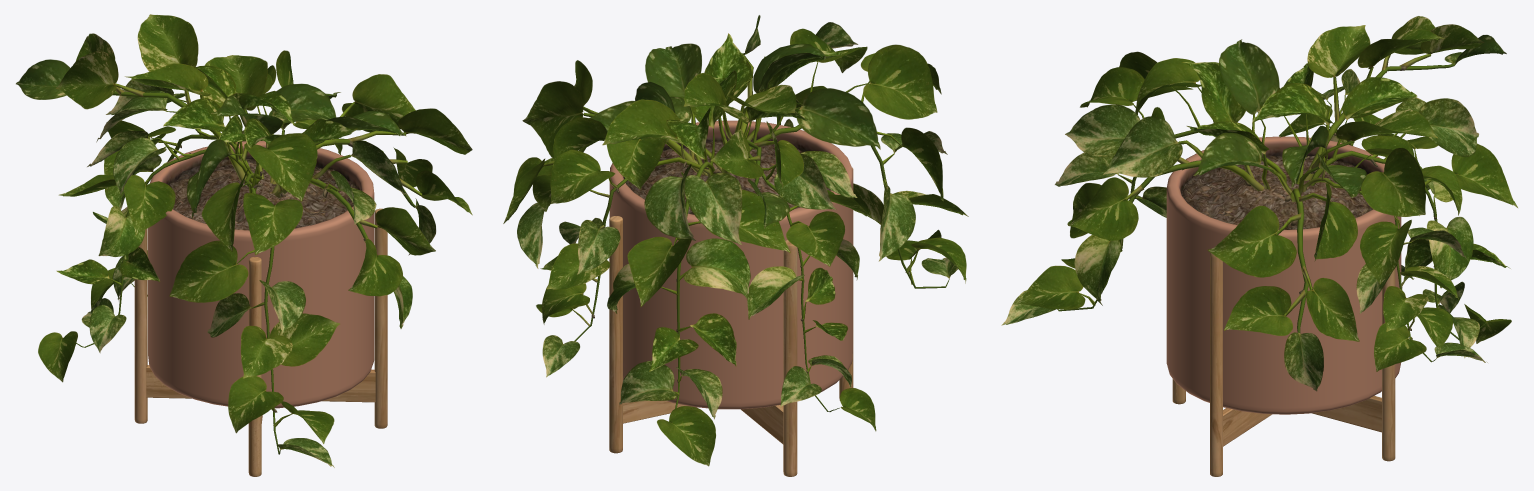
File: plant_pothos.glb
3 views of the same model, side by side, from view 1: azimuth 30°, elevation 25°; view 2: azimuth 150°, elevation 25°; view 3: azimuth 270°, elevation 25° (orthographic). The views are drawn at different scales.
Parts seen in each view (by area): view 1: POTHOS_POTHOS_Mat_0, POT_WOOD_LEGS_WOODEN_LEGS_POT_0; view 2: POTHOS_POTHOS_Mat_0, POT_WOOD_LEGS_WOODEN_LEGS_POT_0; view 3: POTHOS_POTHOS_Mat_0, POT_WOOD_LEGS_WOODEN_LEGS_POT_0.
Boxes of the visible parts, <box> form: POTHOS_POTHOS_Mat_0: <box>16,14,472,467</box>; POT_WOOD_LEGS_WOODEN_LEGS_POT_0: <box>134,141,387,476</box>; POTHOS_POTHOS_Mat_0: <box>503,15,968,466</box>; POT_WOOD_LEGS_WOODEN_LEGS_POT_0: <box>609,120,853,476</box>; POTHOS_POTHOS_Mat_0: <box>1001,16,1517,391</box>; POT_WOOD_LEGS_WOODEN_LEGS_POT_0: <box>1166,136,1401,476</box>.
Size of the model in its own units: 0.7638 by 0.7315 by 0.9002.
Materials: 2 (2 with a texture image).
